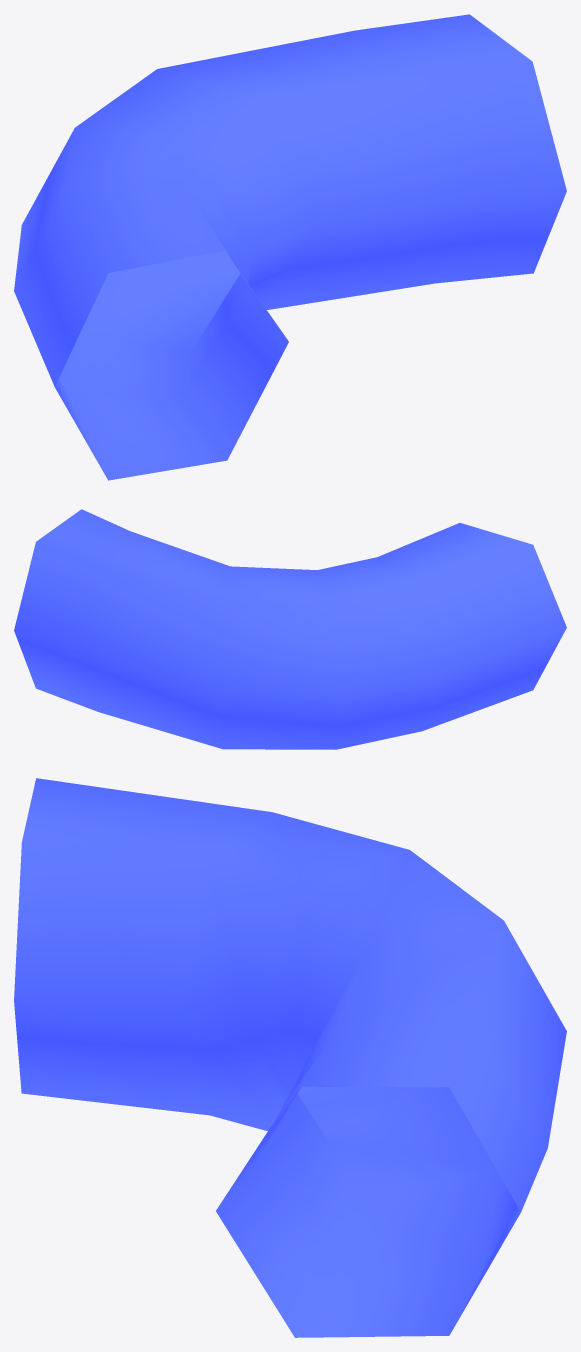
Rendered from Módulo de Cabos 6.fbx.
3 views of the same model, one above another, from view 1: azimuth 30°, elevation 25°; view 2: azimuth 150°, elevation 25°; view 3: azimuth 270°, elevation 25° (orthographic). The views are drawn at different scales.
Parts seen in each view (by area): view 1: Cube; view 2: Cube; view 3: Cube.
Part boxes in pixels (bbox=[...]): Cube: bbox=[14, 14, 566, 480]; Cube: bbox=[14, 509, 566, 749]; Cube: bbox=[14, 778, 566, 1337].
Bounding box in the file's own units: 262 × 90.07 × 180.
